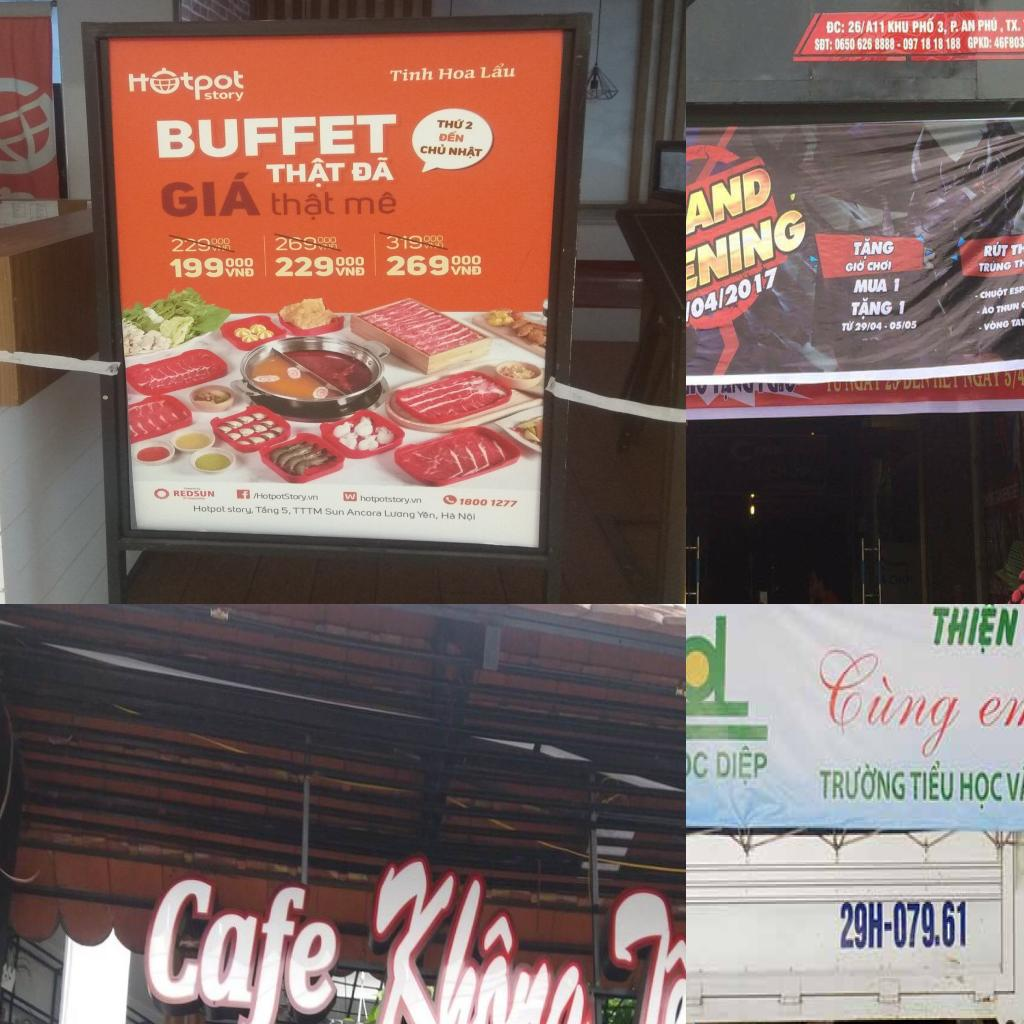text: (339, 849, 595, 1024), (133, 873, 346, 1024), (818, 646, 967, 760), (686, 203, 808, 323), (152, 112, 400, 161), (686, 161, 776, 261), (686, 264, 781, 334), (155, 167, 267, 219), (123, 65, 249, 105), (931, 604, 1021, 657), (815, 761, 907, 804), (262, 156, 345, 190), (837, 900, 887, 951), (714, 744, 768, 790), (266, 189, 340, 222), (908, 757, 956, 804), (956, 770, 1004, 813), (975, 692, 1024, 732), (339, 188, 400, 216), (348, 154, 402, 184), (270, 254, 335, 278), (384, 254, 451, 276), (169, 258, 225, 280), (852, 237, 895, 262), (851, 297, 893, 321), (388, 64, 437, 84), (686, 750, 710, 790), (766, 460, 812, 480), (834, 38, 894, 52), (1004, 762, 1024, 804), (477, 60, 520, 79), (272, 236, 318, 252), (903, 38, 961, 50), (436, 66, 478, 82), (170, 237, 212, 253), (458, 497, 519, 508), (359, 495, 423, 505), (383, 235, 425, 250), (446, 144, 484, 160), (252, 493, 319, 502), (201, 88, 244, 102), (728, 439, 754, 462), (979, 258, 1012, 276), (852, 278, 889, 294), (979, 285, 1009, 304), (848, 18, 886, 33), (983, 240, 1009, 260), (436, 128, 466, 144), (912, 15, 936, 35), (889, 569, 917, 586), (993, 35, 1024, 50), (1009, 230, 1024, 257), (449, 254, 482, 266), (172, 489, 216, 498), (866, 259, 894, 273), (420, 143, 450, 156), (983, 319, 1010, 333), (435, 118, 466, 130), (335, 266, 366, 278), (854, 321, 884, 333), (888, 19, 910, 35), (192, 505, 227, 515), (383, 510, 417, 520), (844, 259, 868, 273), (996, 301, 1020, 315), (345, 508, 382, 517), (225, 267, 255, 278), (335, 256, 365, 267), (450, 266, 483, 276), (967, 37, 992, 50), (225, 256, 254, 267), (888, 320, 919, 330), (823, 20, 845, 34), (292, 506, 322, 516), (226, 505, 254, 515), (814, 38, 833, 52), (416, 510, 440, 521), (254, 505, 280, 515), (1006, 17, 1022, 33), (1013, 247, 1024, 270), (960, 18, 976, 32), (456, 512, 477, 522), (1009, 282, 1024, 296), (936, 19, 948, 36), (840, 320, 856, 332), (980, 305, 996, 317), (948, 18, 960, 34), (422, 234, 444, 242), (324, 508, 345, 516), (211, 237, 231, 245), (211, 244, 231, 252), (318, 236, 338, 244), (318, 244, 338, 252), (1010, 318, 1024, 329), (424, 242, 445, 249), (440, 511, 456, 520), (463, 119, 475, 130), (893, 278, 901, 294), (280, 506, 292, 516), (899, 299, 906, 314)
